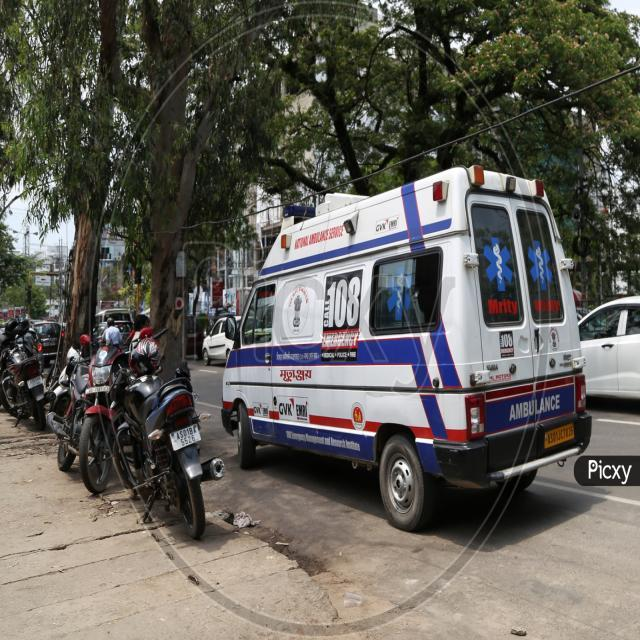ambulance: (223, 167, 590, 506)
